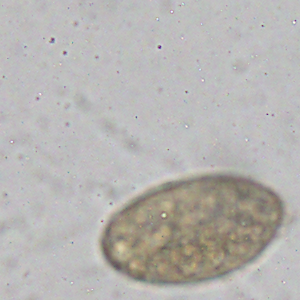Fasciola_hepatica_egg: (97, 167, 290, 287)
